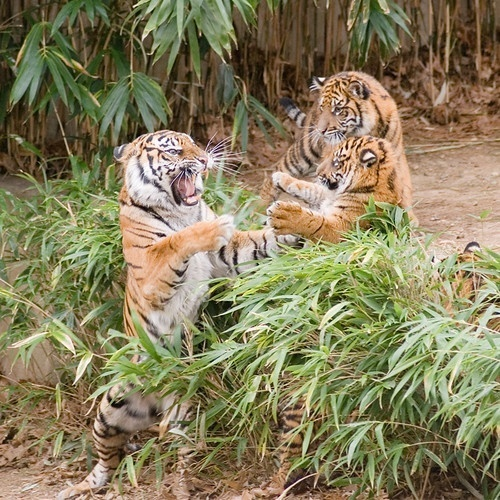tigre: (53, 129, 276, 500), (266, 135, 420, 263), (274, 69, 403, 180)
